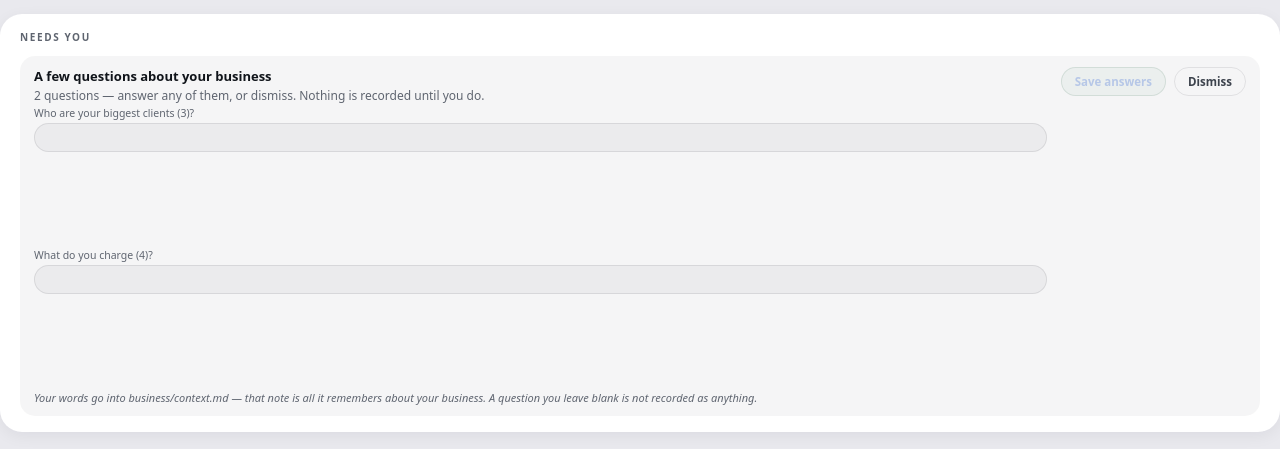
it: Desk — the companion asks about the business (Needs you) › writes ONLY the answers the user typed into the vault note, labelled as their own words
Type "Two councils." into the field labelled "Who are your biggest clients (3)?" at (540, 138), box x1=34 y1=123 x2=1047 y2=152
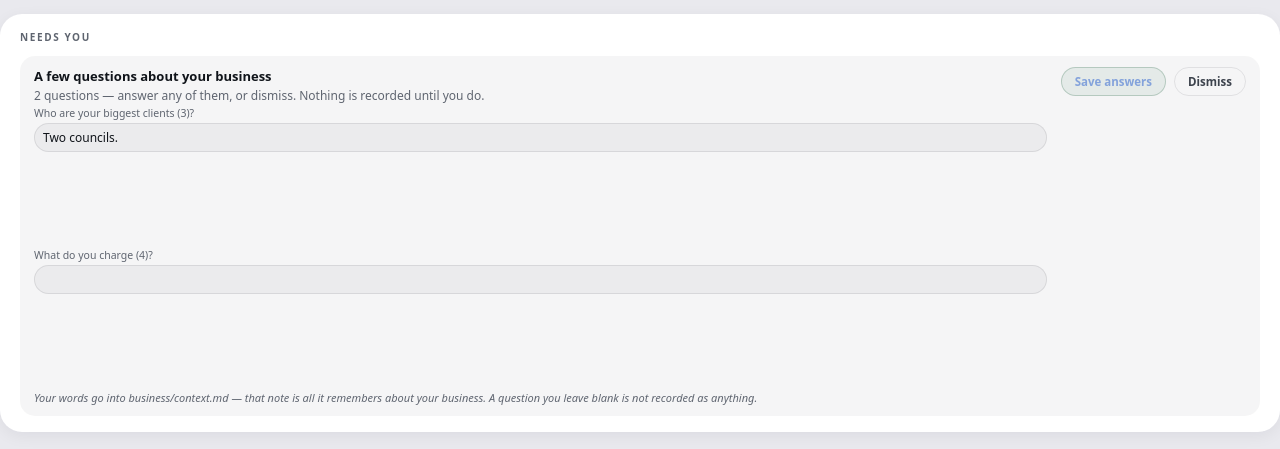
# q2 is left BLANK on purpose — it must not appear as an answer anywhere.
Click the button "Save answers" at (1113, 82), box x1=1061 y1=67 x2=1166 y2=96
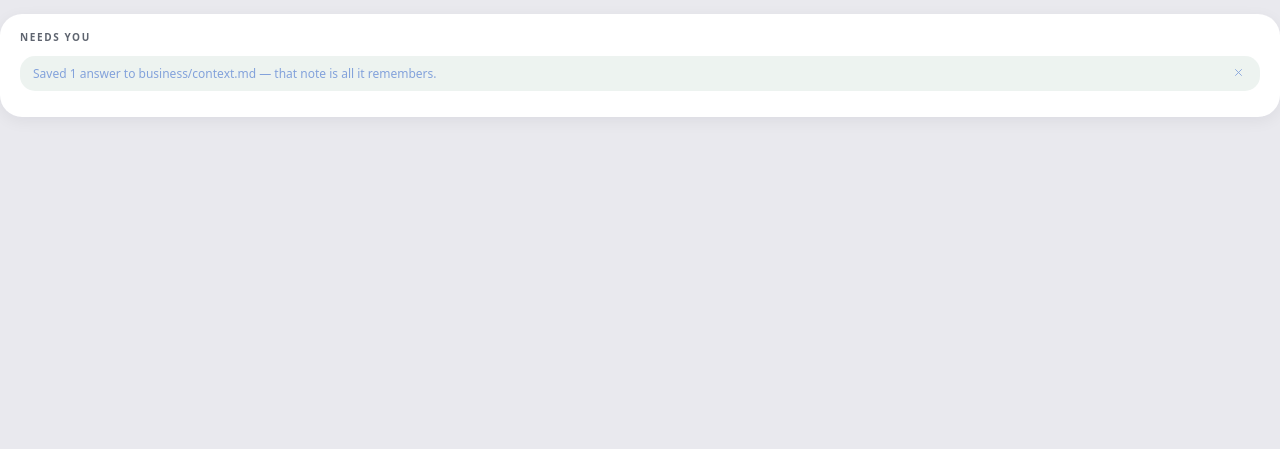
Expected: the text "Saved 1 answer to business/context.md" is shown, x1=33 y1=65 x2=436 y2=82
